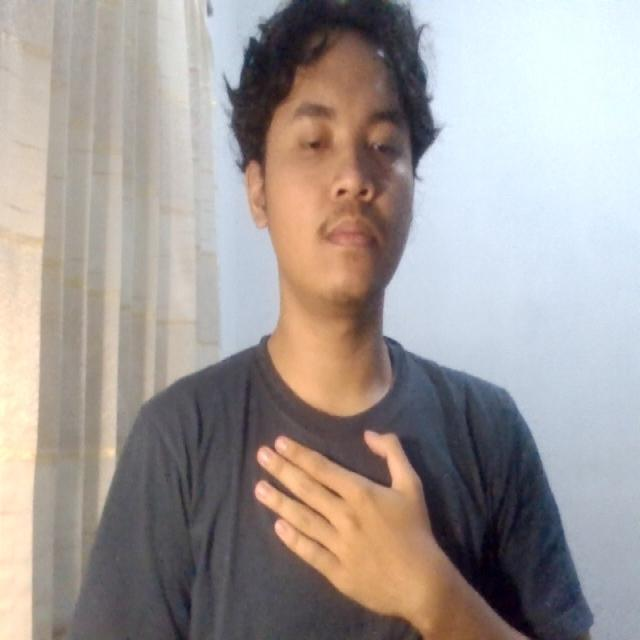Nama: (235, 400, 448, 621)
